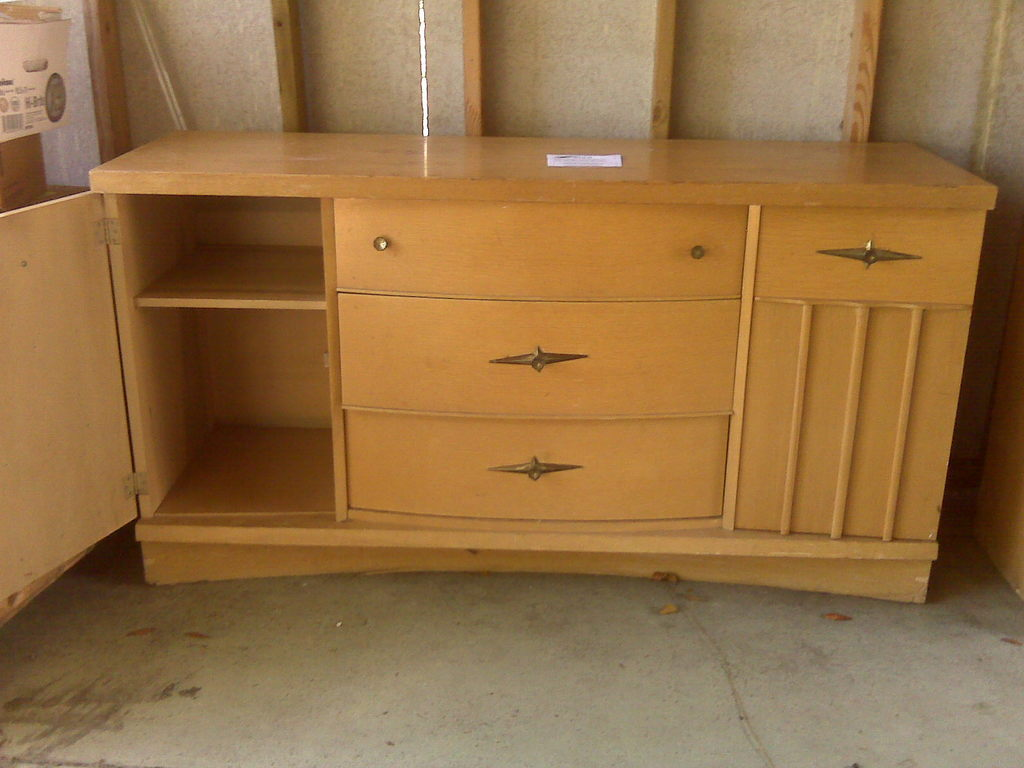cabinet door: (345, 303, 729, 417), (337, 203, 744, 295), (0, 222, 123, 522), (346, 414, 727, 509), (771, 212, 977, 294)
handle: (494, 446, 578, 482), (491, 340, 579, 373), (839, 237, 911, 263), (374, 226, 393, 258), (690, 237, 711, 265)
